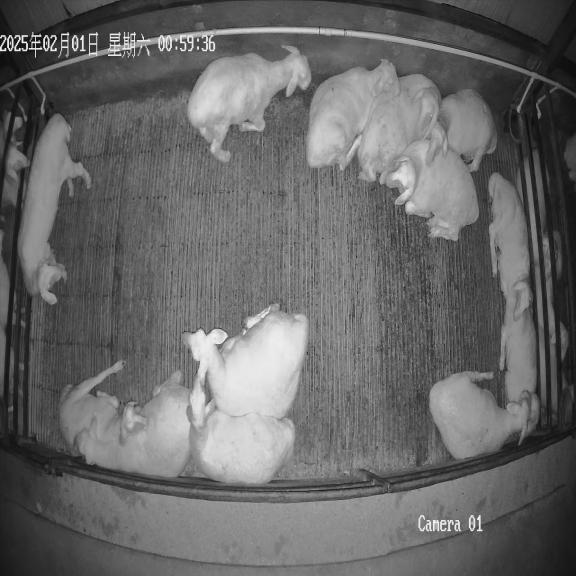lying: (182, 304, 309, 418), (187, 46, 311, 162), (186, 368, 295, 484), (76, 371, 190, 478), (306, 59, 400, 170), (384, 139, 479, 241), (357, 74, 441, 183), (488, 172, 532, 369), (429, 372, 528, 459), (59, 361, 146, 455), (427, 89, 497, 172), (499, 297, 539, 432)
stand: (17, 114, 91, 304)
